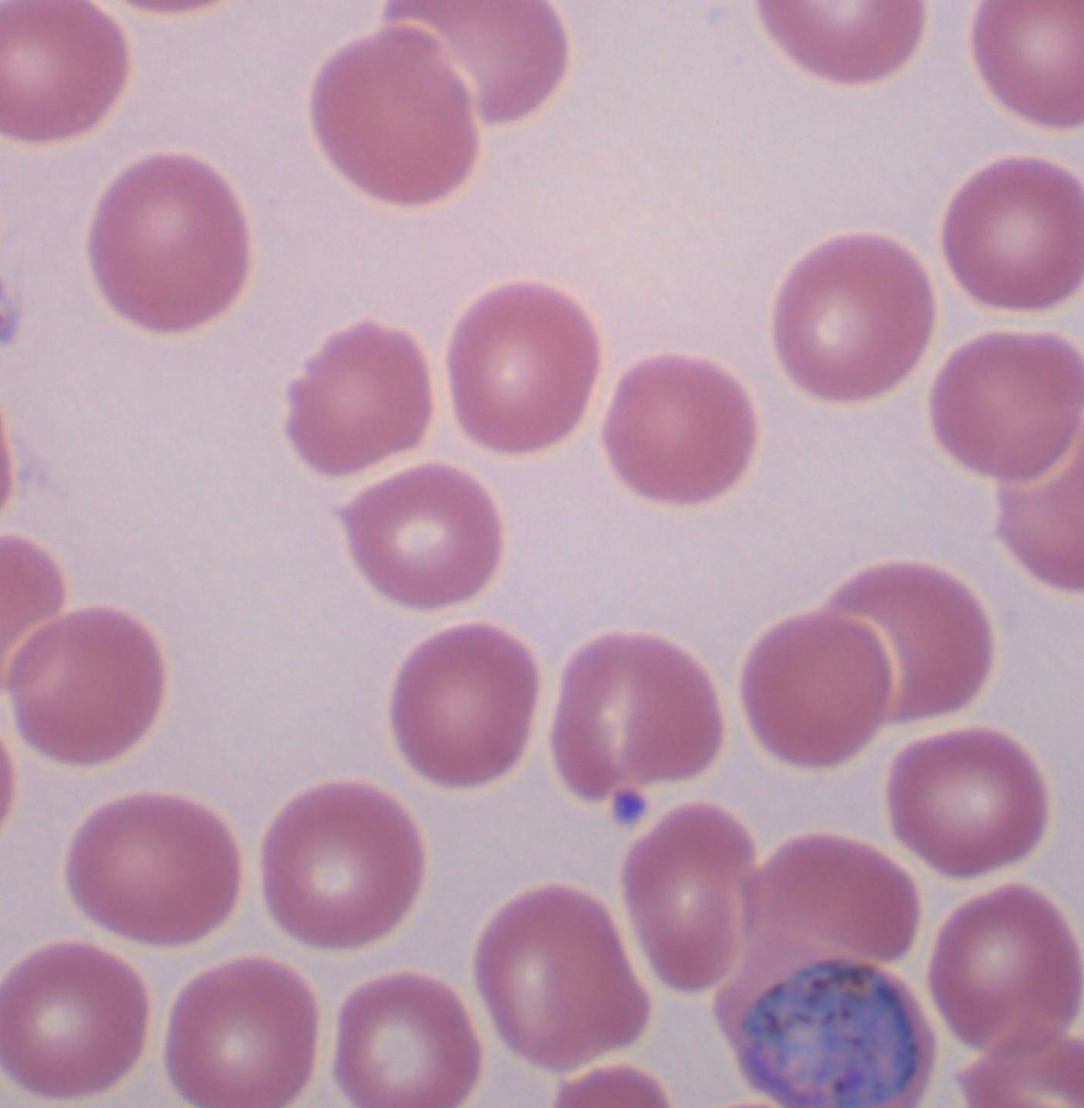Infected: (711, 950, 942, 1108)
Uninfected: (80, 152, 252, 347), (472, 886, 651, 1071), (54, 784, 239, 948), (305, 34, 482, 205), (552, 627, 731, 795), (765, 227, 938, 400), (259, 776, 422, 955), (0, 601, 169, 770), (444, 278, 600, 460), (388, 622, 541, 797), (624, 802, 757, 997), (932, 884, 1077, 1061), (885, 727, 1051, 878), (760, 825, 921, 980), (819, 566, 986, 713), (603, 352, 759, 508), (336, 463, 499, 612), (162, 953, 317, 1108), (386, 0, 567, 127), (731, 612, 873, 771), (290, 314, 430, 475), (929, 327, 1084, 470), (0, 943, 148, 1086), (942, 160, 1080, 313), (336, 963, 471, 1108), (0, 11, 136, 145), (978, 0, 1084, 145)
